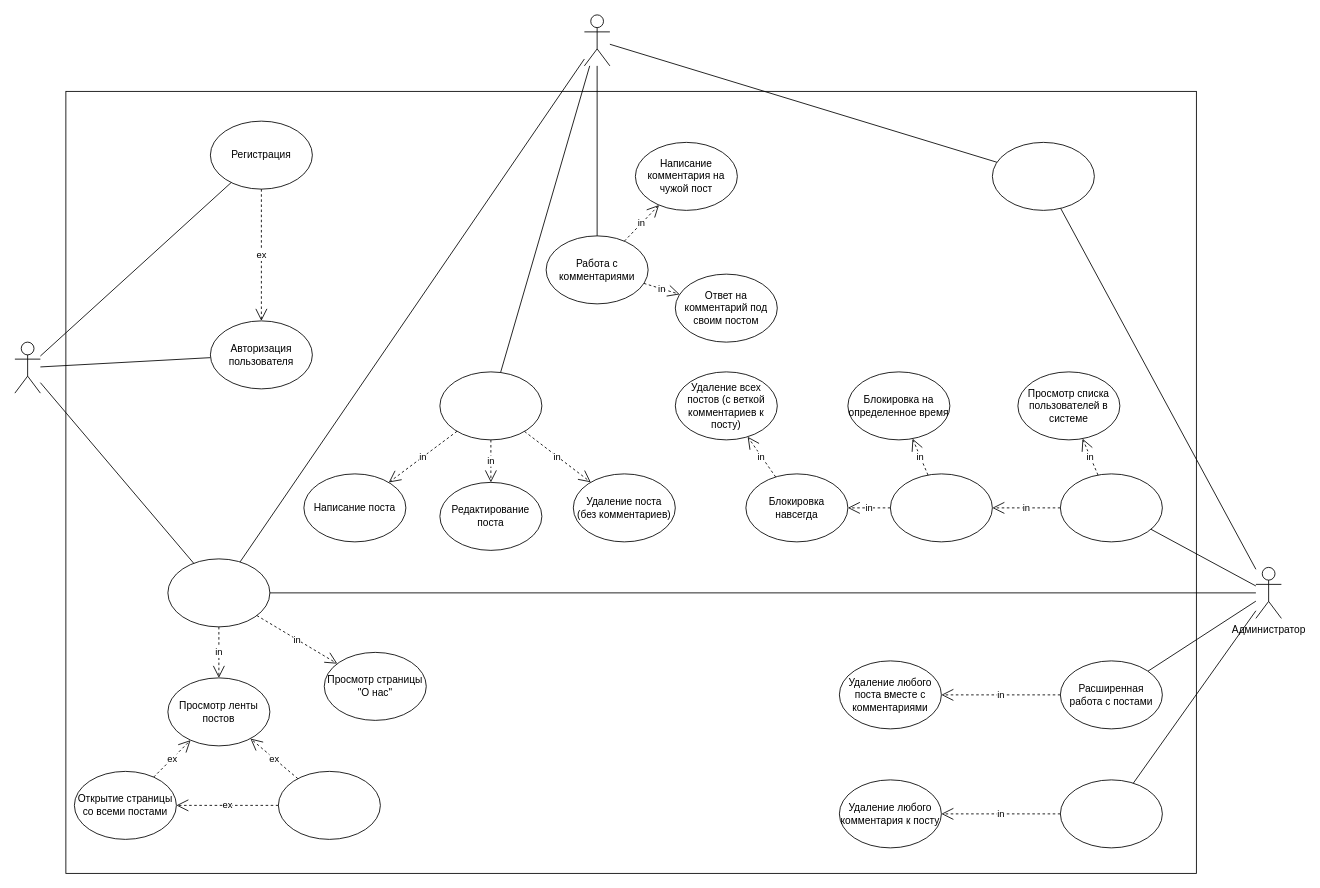
Image size: 1320x888. Some labels were removed from this diagram. The centre of each missing label's shape, as x and y in pixels:
Автор: pixel 597 40
Блокировка входа пользователя в систему: pixel 941 507
Выход из системы: pixel 1043 176
Гость: pixel 27 367
Открытие страницы поста с дет. инф-ей: pixel 329 805
Просмотр главной страницы: pixel 218 592
Работа с пользователями: pixel 1111 507
Работа с постами: pixel 490 405
Расширенная работа с комментариями: pixel 1111 813
